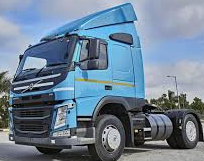truck: (5, 1, 201, 161)
